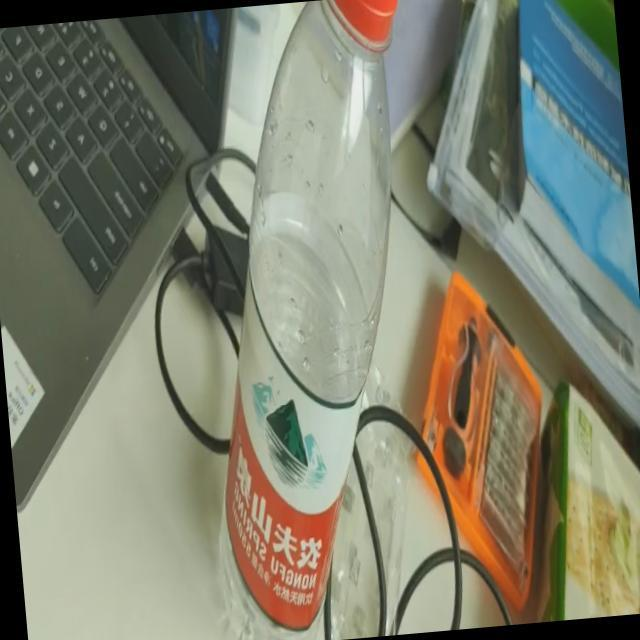good: (165, 0, 449, 640)
